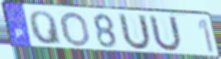1: (197, 18, 216, 54)
8: (93, 13, 119, 49)
O: (60, 11, 92, 48)
Q: (28, 9, 64, 46)
U: (147, 14, 184, 54), (117, 12, 153, 53)
